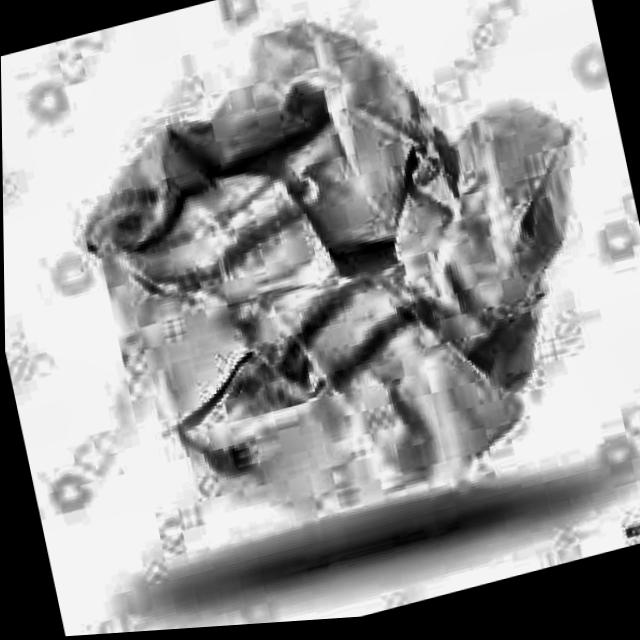Paper: (46, 0, 630, 558)
